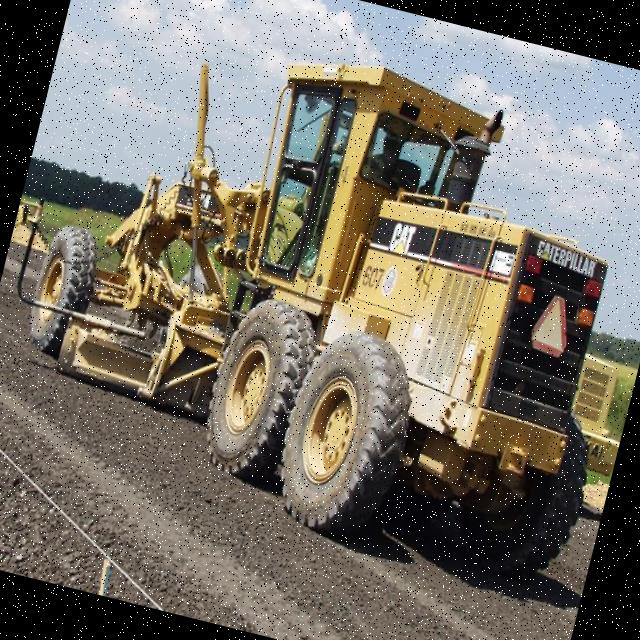Grader: (0, 0, 640, 582)
